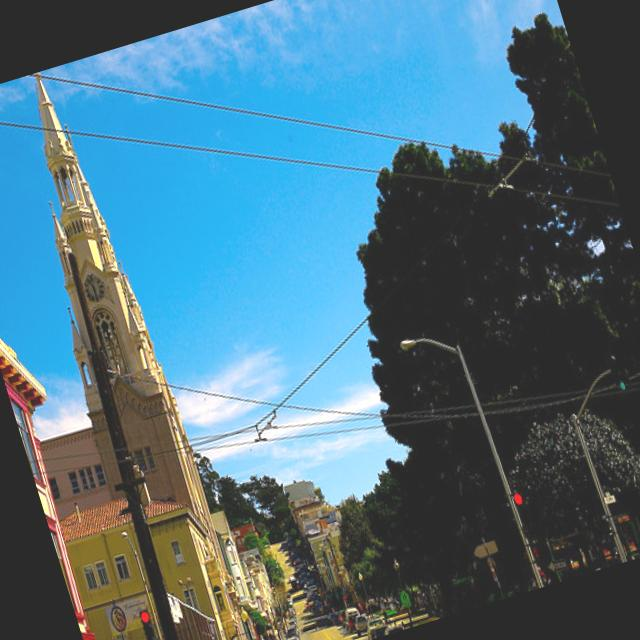Vehicle: (283, 514, 408, 640), (352, 612, 372, 636), (284, 625, 298, 639), (285, 605, 297, 619), (284, 592, 294, 606), (287, 618, 298, 629), (290, 579, 300, 590), (284, 635, 301, 640)
